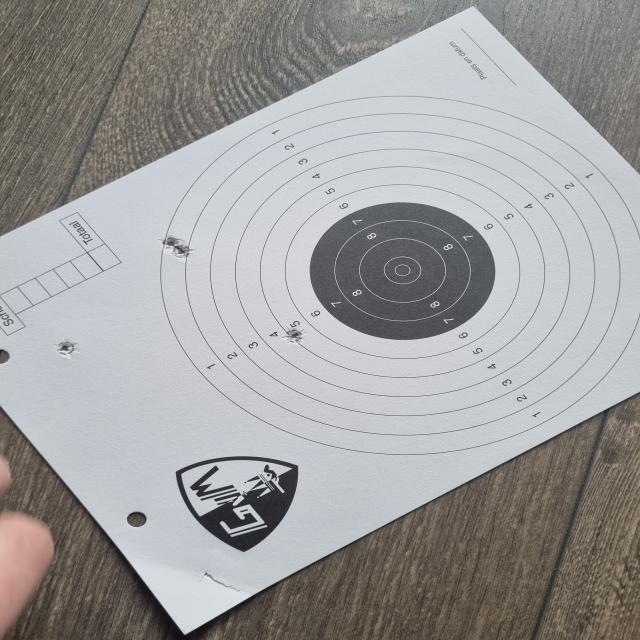0: (51, 340, 79, 357)
1: (158, 236, 181, 248)
2: (172, 245, 194, 259)
5: (283, 327, 307, 344)
Target: (159, 94, 640, 456)
black_contour: (310, 203, 497, 342)
